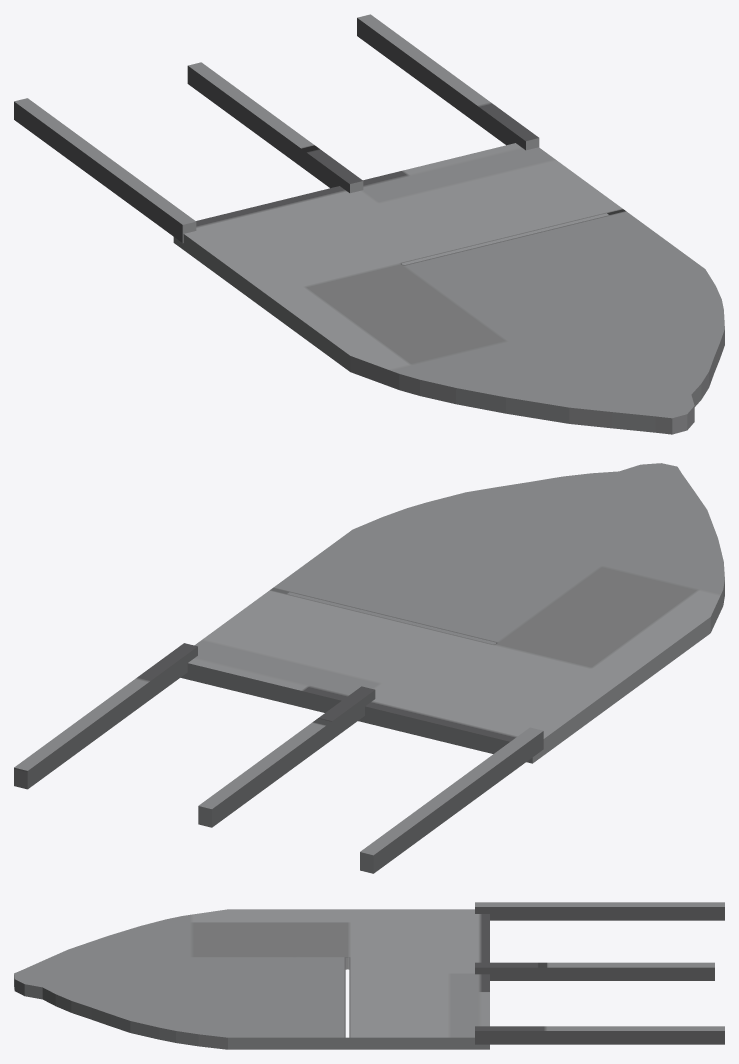
3 renders of one model, top to bottom at view 1: azimuth 30°, elevation 25°; view 2: azimuth 150°, elevation 25°; view 3: azimuth 270°, elevation 25°, orthographic. The views are drawn at different scales.
Size of the model in its own units: 0.915 by 0.0625 by 2.13.
